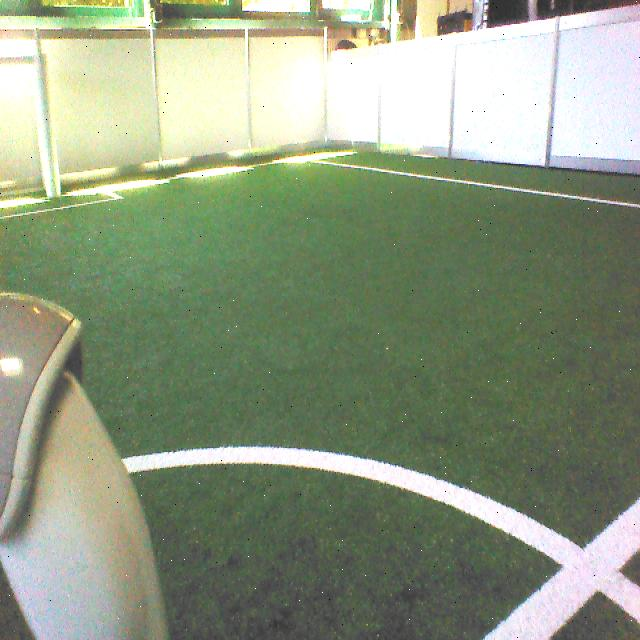goalpost: (29, 51, 63, 196)
